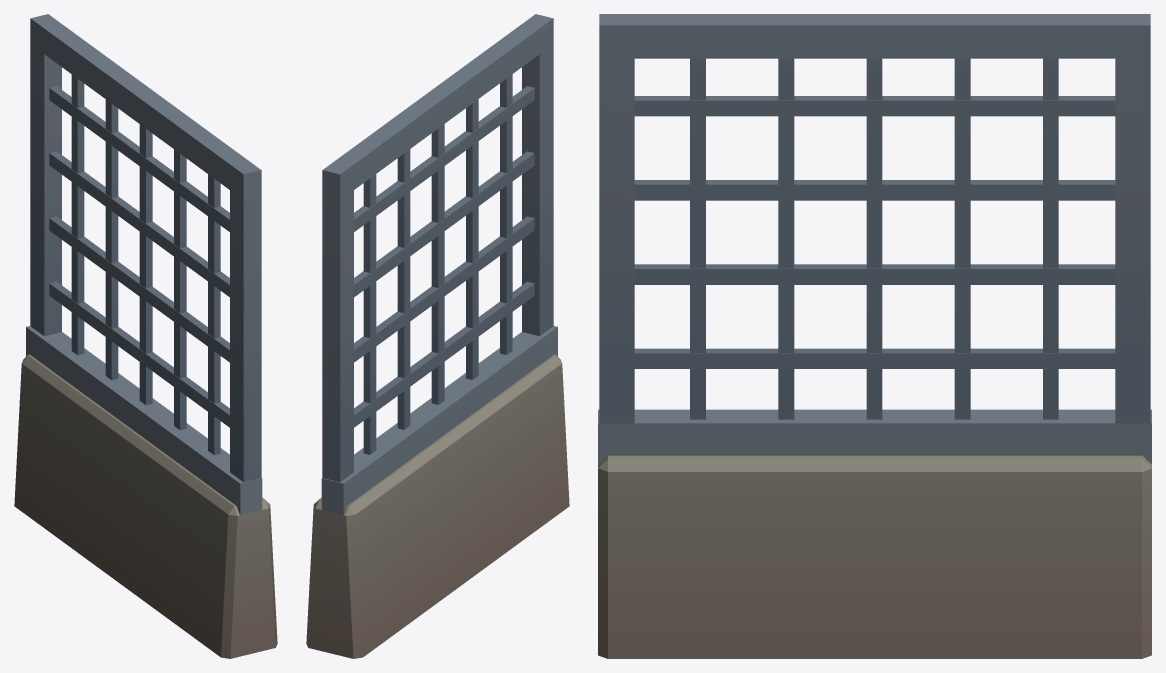
File: Fence_1_A_5.fbx
3 renders of one model, left to right at view 1: azimuth 30°, elevation 25°; view 2: azimuth 150°, elevation 25°; view 3: azimuth 270°, elevation 25°, orthographic. The views are drawn at different scales.
Visible parts, largest first — view 1: Fence_1_A_5; view 2: Fence_1_A_5; view 3: Fence_1_A_5.
Boxes of the visible parts, x1=… form: Fence_1_A_5: x1=14, y1=14, x2=277, y2=658; Fence_1_A_5: x1=306, y1=14, x2=569, y2=658; Fence_1_A_5: x1=598, y1=14, x2=1151, y2=658.
Bounding box in the file's own units: 30.52 × 248 × 200.
